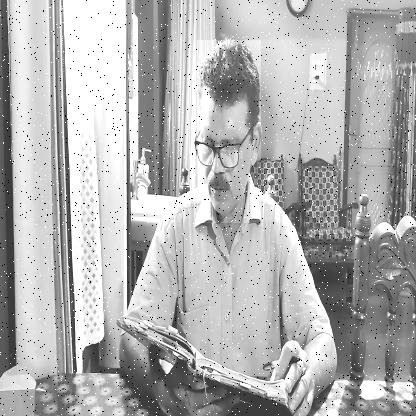Normal: (196, 40, 260, 223)
